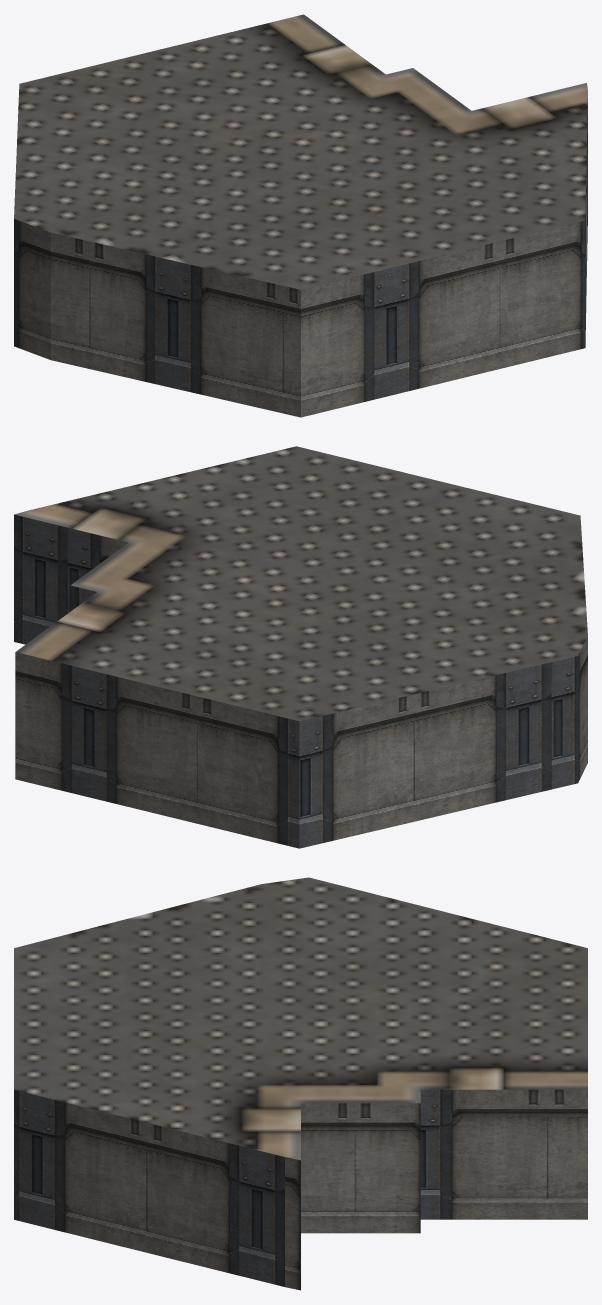
The model's file is building_heavy_a_61.glb.
3 views of the same model, one above another, from view 1: azimuth 30°, elevation 25°; view 2: azimuth 150°, elevation 25°; view 3: azimuth 270°, elevation 25° (orthographic). The views are drawn at different scales.
Visible parts, largest first — view 1: buildings/saxarba/building_heavy/building_heavy_a_61; view 2: buildings/saxarba/building_heavy/building_heavy_a_61; view 3: buildings/saxarba/building_heavy/building_heavy_a_61.
Boxes of the visible parts, box(x1,y1,x2,y2) form: buildings/saxarba/building_heavy/building_heavy_a_61: box(14, 14, 587, 417); buildings/saxarba/building_heavy/building_heavy_a_61: box(14, 446, 587, 848); buildings/saxarba/building_heavy/building_heavy_a_61: box(14, 877, 587, 1290).
Size of the model in its own units: 84 by 18 by 72.
